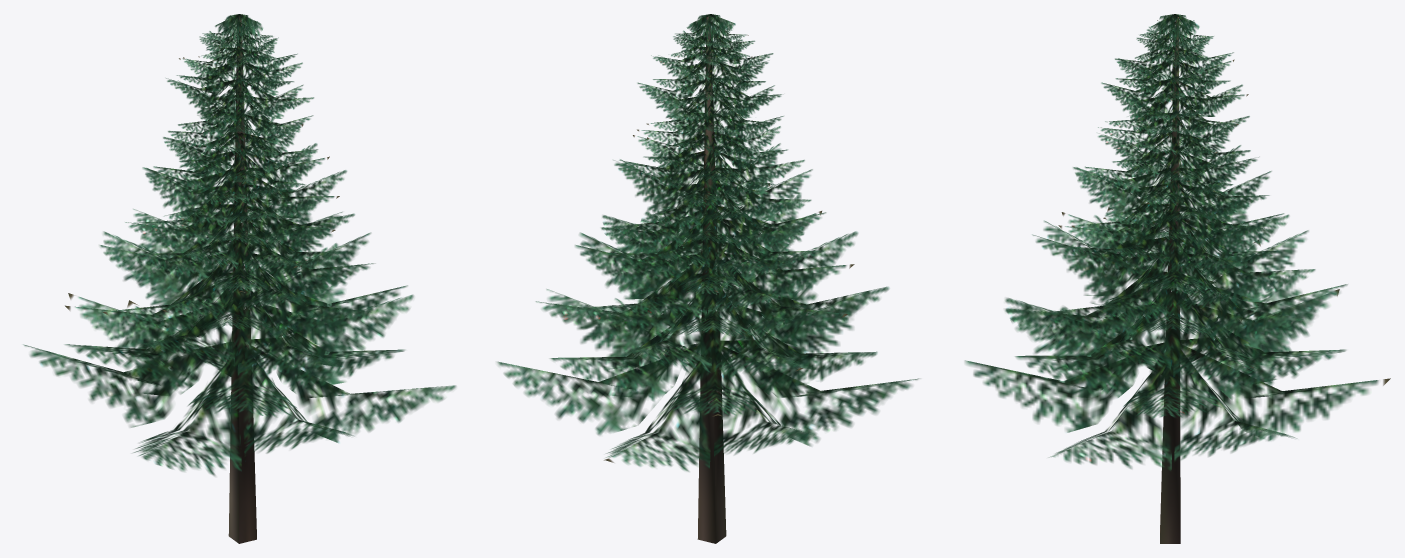
Rendered from pine-mature.glb.
3 views of the same model, side by side, from view 1: azimuth 30°, elevation 25°; view 2: azimuth 150°, elevation 25°; view 3: azimuth 270°, elevation 25° (orthographic).
Parts seen in each view (by area): view 1: Cube_032; view 2: Cube_032; view 3: Cube_032.
Boxes of the visible parts, box(x1,y1,x2,y2) form: Cube_032: box(23, 14, 456, 543); Cube_032: box(497, 14, 919, 543); Cube_032: box(965, 14, 1390, 543).
Bounding box in the file's own units: 0.183 × 0.2615 × 0.1954.
1 material, 1 textured.
